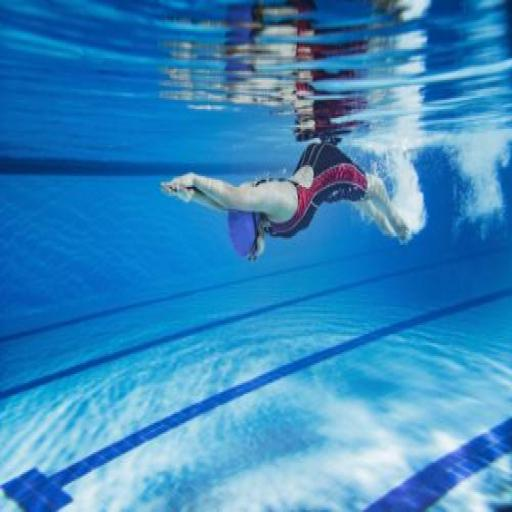swimming: (158, 136, 414, 265)
